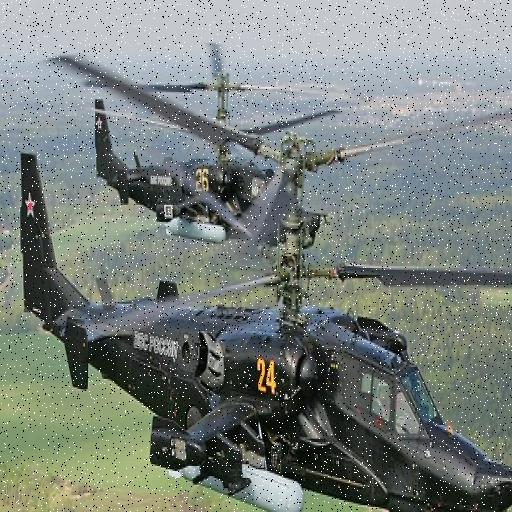helicopter: (1, 154, 512, 512), (32, 27, 464, 264)
